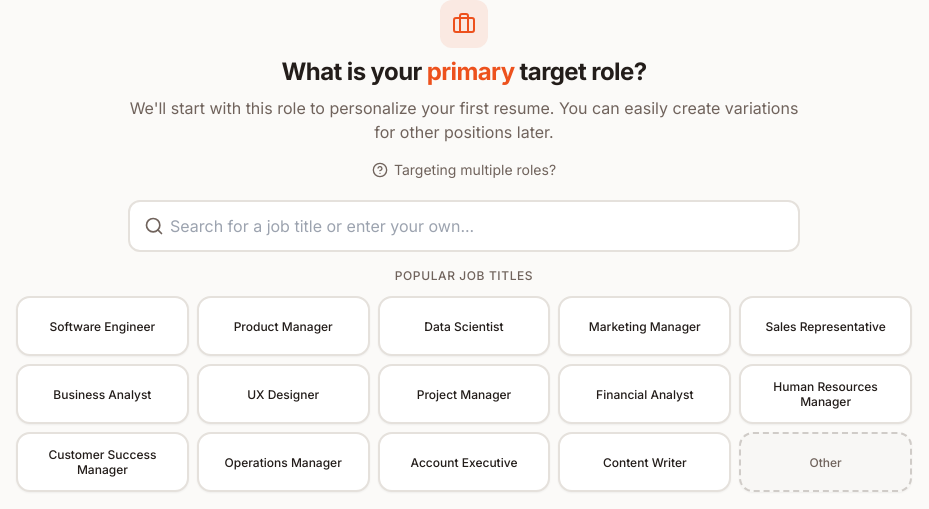
Test case: JobTitleStep › filters job titles based on search query
This screenshot has width=929, height=509.
Type "engineer" into the field with placeholder "Search for a job title or enter your own..." at (464, 226), box [128,200,800,252]
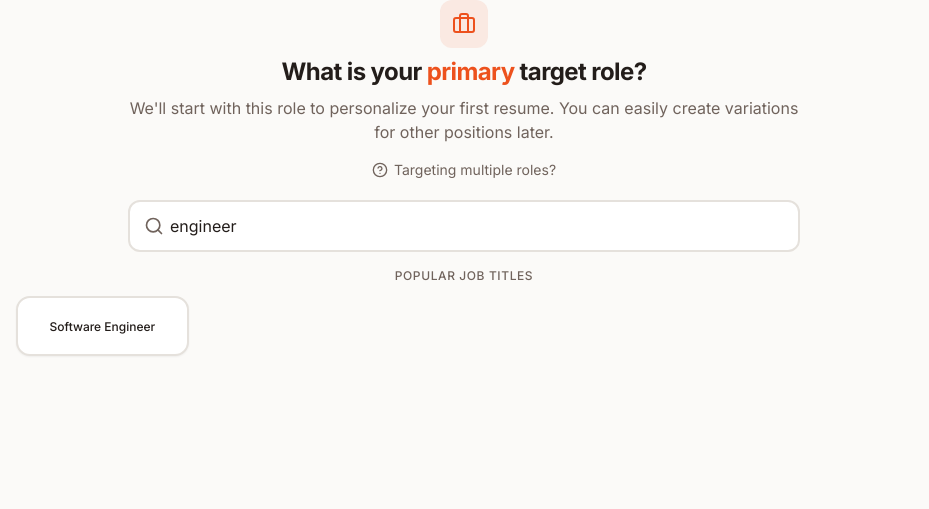
Expected: the text "Software Engineer" is shown, [50,318,155,334]
Expected: the text "Product Manager" is gone
